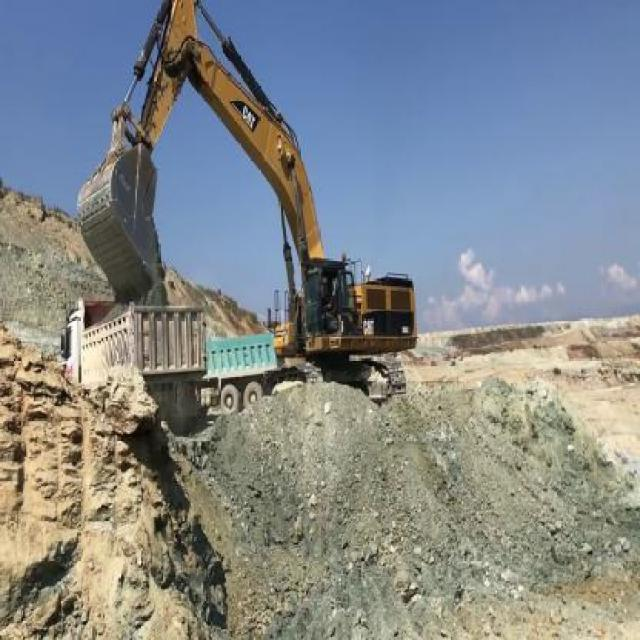Dump Truck: (58, 295, 205, 433), (196, 332, 278, 412)
Excavator: (74, 0, 418, 400)
